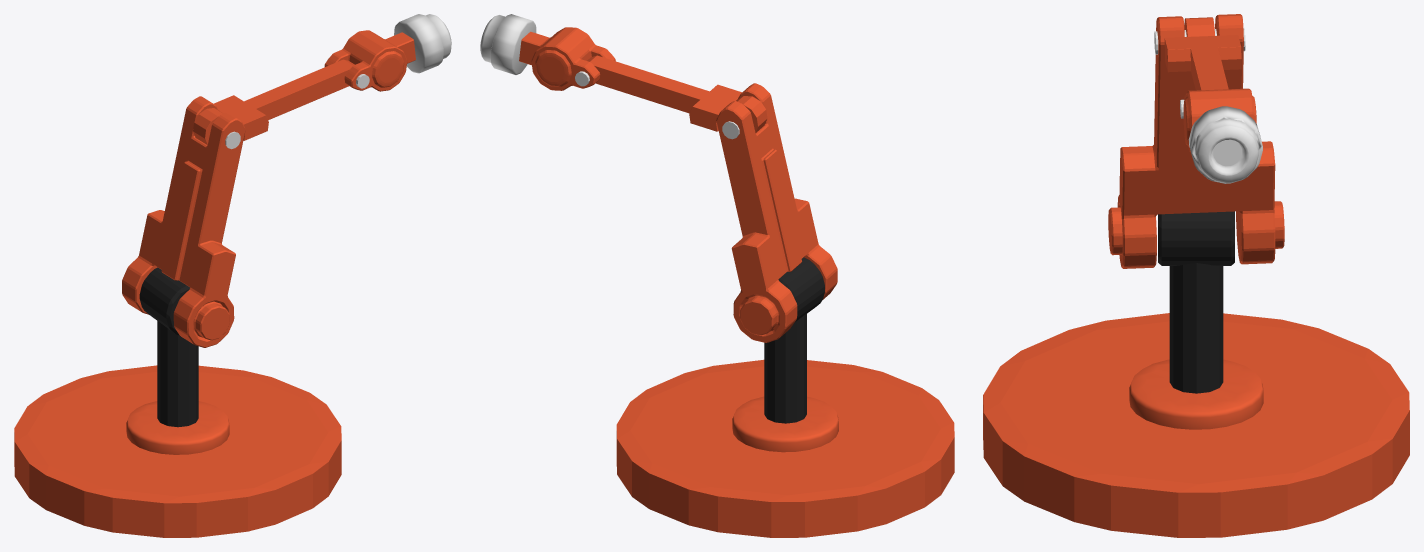
The model's file is robot11.fbx.
3 renders of one model, left to right at view 1: azimuth 30°, elevation 25°; view 2: azimuth 150°, elevation 25°; view 3: azimuth 270°, elevation 25°, orthographic. The views are drawn at different scales.
Visible parts, largest first — view 1: Cylinder.002, Cylinder.019, Cylinder.018, Cylinder.003, Cylinder.020, Cylinder.021, Cylinder.022, Cylinder.017; view 2: Cylinder.002, Cylinder.019, Cylinder.018, Cylinder.020, Cylinder.003, Cylinder.021, Cylinder.022, Cylinder.017; view 3: Cylinder.002, Cylinder.019, Cylinder.003, Cylinder.020, Cylinder.022, Cylinder.017, Cylinder.018, Cylinder.021.
Boxes of the visible parts, <box> form: Cylinder.002: <box>14,365,341,537</box>; Cylinder.019: <box>122,96,245,347</box>; Cylinder.018: <box>193,59,354,144</box>; Cylinder.003: <box>157,321,198,427</box>; Cylinder.020: <box>126,401,229,454</box>; Cylinder.021: <box>324,30,415,91</box>; Cylinder.022: <box>394,14,451,73</box>; Cylinder.017: <box>139,267,189,336</box>; Cylinder.002: <box>616,359,954,537</box>; Cylinder.019: <box>716,83,837,342</box>; Cylinder.018: <box>587,55,767,132</box>; Cylinder.020: <box>732,396,838,452</box>; Cylinder.003: <box>764,314,806,423</box>; Cylinder.021: <box>519,27,615,90</box>; Cylinder.022: <box>480,14,536,74</box>; Cylinder.017: <box>778,257,824,321</box>; Cylinder.002: <box>983,313,1409,537</box>; Cylinder.019: <box>1108,14,1284,268</box>; Cylinder.003: <box>1169,263,1223,393</box>; Cylinder.020: <box>1129,359,1263,429</box>; Cylinder.022: <box>1188,106,1262,183</box>; Cylinder.017: <box>1158,211,1234,265</box>; Cylinder.018: <box>1164,17,1241,90</box>; Cylinder.021: <box>1183,88,1256,152</box>.
Size of the model in its own units: 1111 by 968 by 751.
